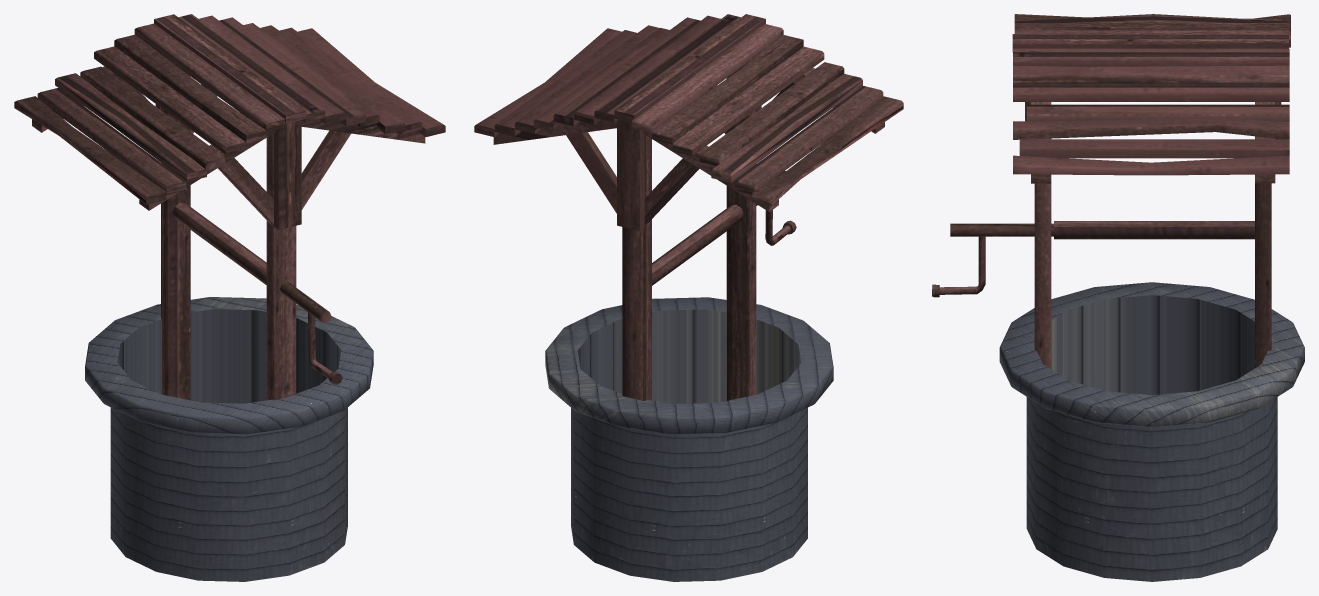
Rendered from Spring.fbx.
The picture shows the model from 3 angles, left to right: view 1: azimuth 30°, elevation 25°; view 2: azimuth 150°, elevation 25°; view 3: azimuth 270°, elevation 25°; orthographic projection. The views are drawn at different scales.
Visible parts, largest first — view 1: Fonte, FonteBase; view 2: Fonte, FonteBase; view 3: FonteBase, Fonte.
Boxes of the visible parts, left/top/right/bottom form: Fonte: left=14, top=14, right=445, bottom=400; FonteBase: left=85, top=297, right=373, bottom=581; Fonte: left=474, top=14, right=903, bottom=400; FonteBase: left=545, top=297, right=833, bottom=581; FonteBase: left=999, top=282, right=1304, bottom=581; Fonte: left=932, top=14, right=1290, bottom=368.
Bounding box in the file's own units: 114 × 118 × 171.
